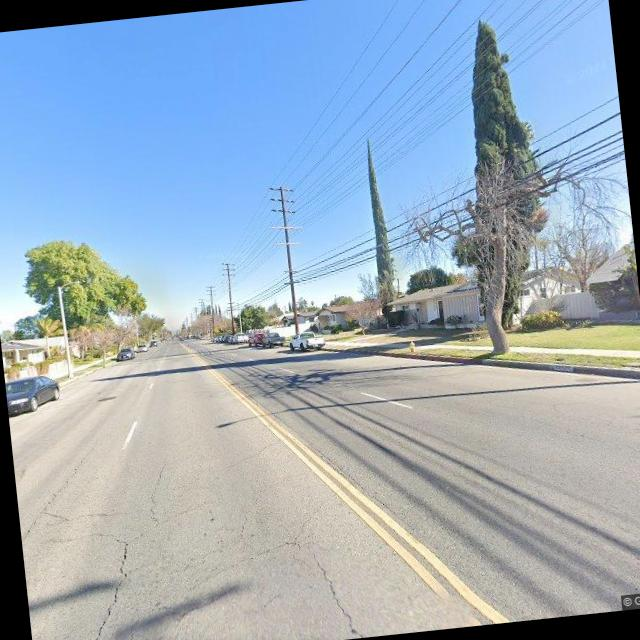pothole: (308, 540, 383, 640), (13, 456, 93, 540), (78, 533, 140, 640), (138, 453, 172, 524)
